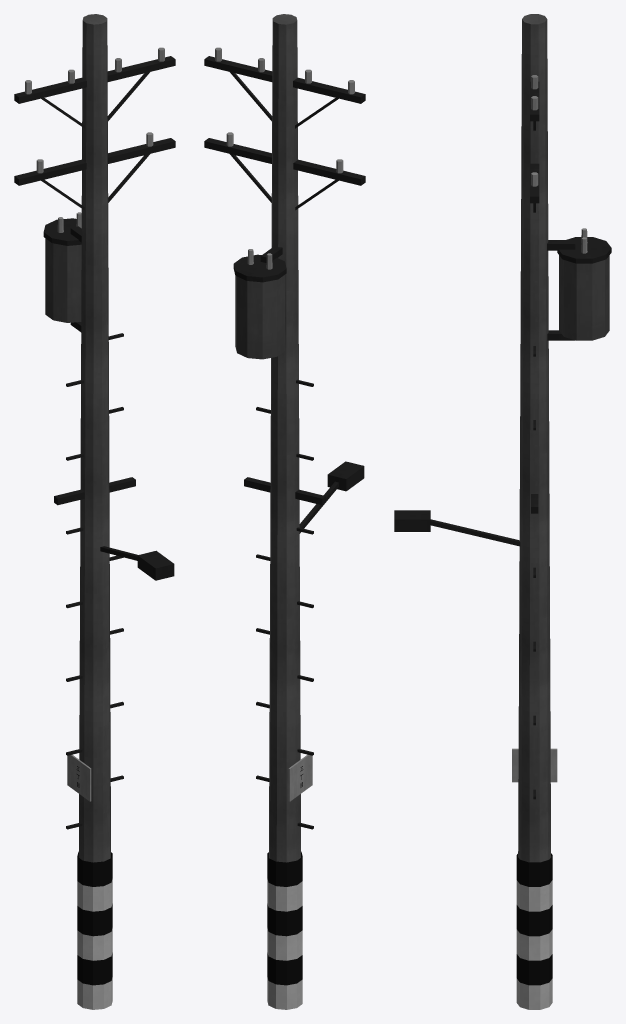
The model's file is utility_pole.glb.
3 renders of one model, left to right at view 1: azimuth 30°, elevation 25°; view 2: azimuth 150°, elevation 25°; view 3: azimuth 270°, elevation 25°, orthographic.
Parts seen in each view (by area): view 1: utility_pole; view 2: utility_pole; view 3: utility_pole.
Boxes of the visible parts, x1,y1,x2,y2 form: utility_pole: [14, 14, 175, 1009]; utility_pole: [204, 14, 365, 1009]; utility_pole: [394, 14, 611, 1009].
Size of the model in its own units: 2 by 12 by 2.4.
7 materials, 7 textured.
